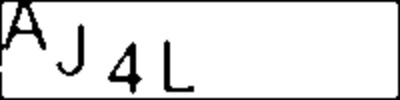4: (104, 39, 143, 95)
A: (3, 1, 53, 54)
J: (54, 19, 91, 79)
L: (157, 35, 204, 97)
